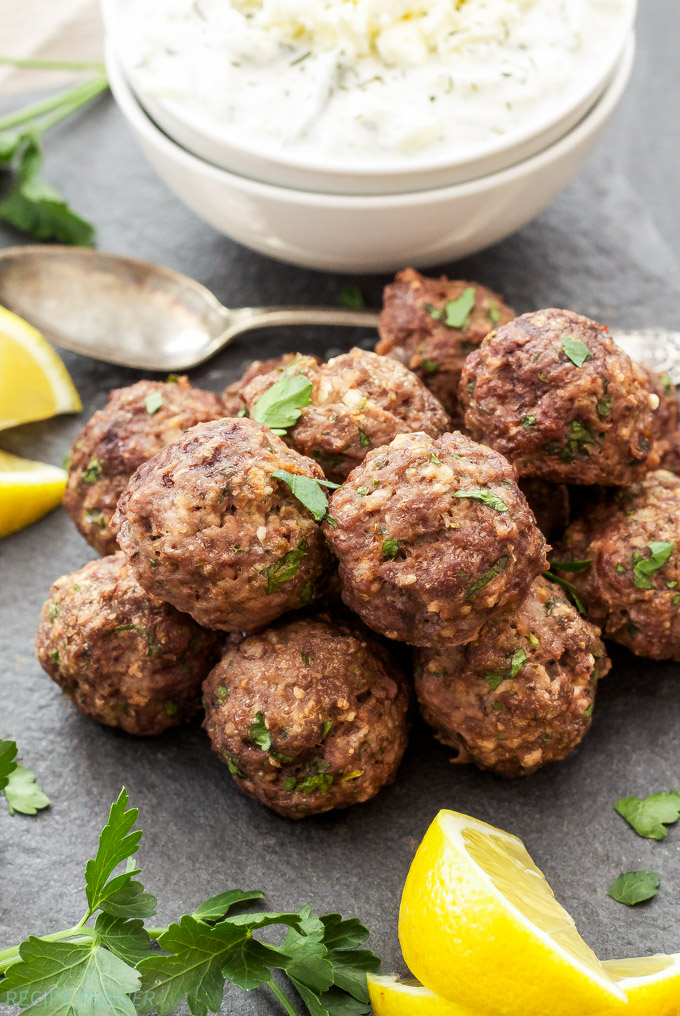meatballs: (95, 398, 391, 786), (340, 345, 652, 635)
